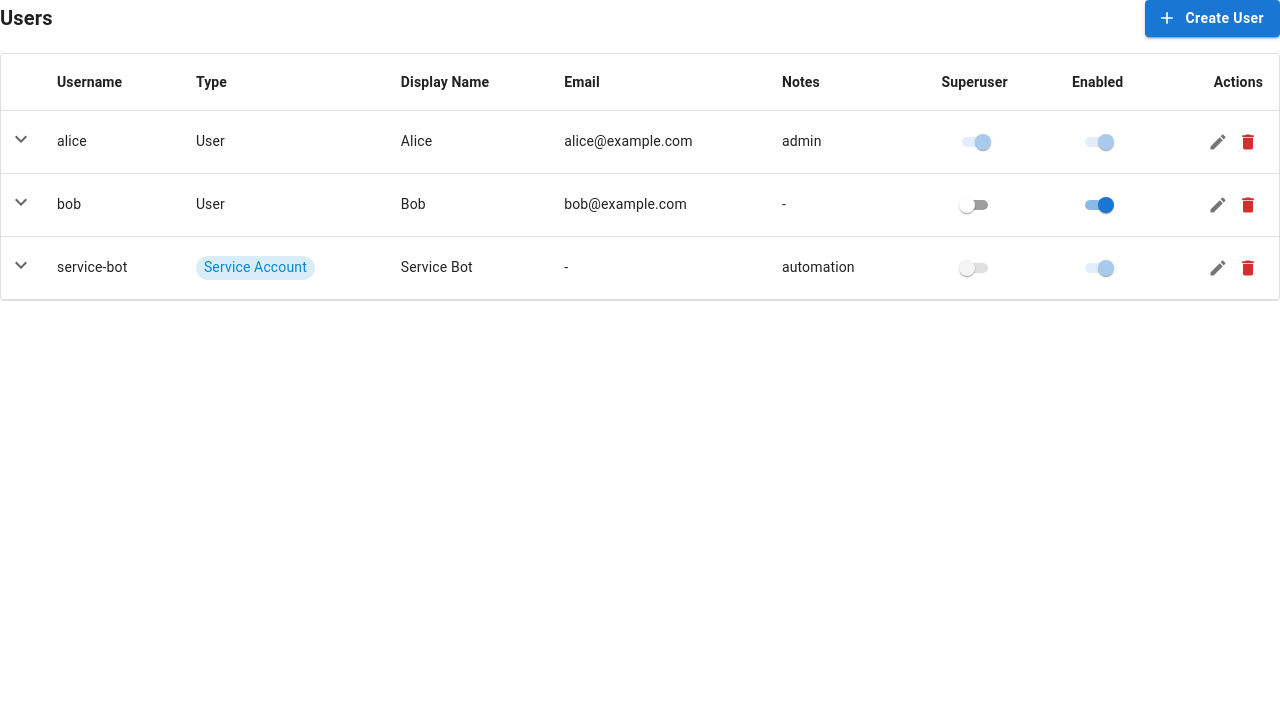
it: AdminUsers › Create user dialog › enables Create once the password reaches 12 characters
The image size is (1280, 720).
Expected: the text "alice" is shown, [41,110,180,173]
Click the button "Create User": (1213, 18) [1146,0,1279,36]
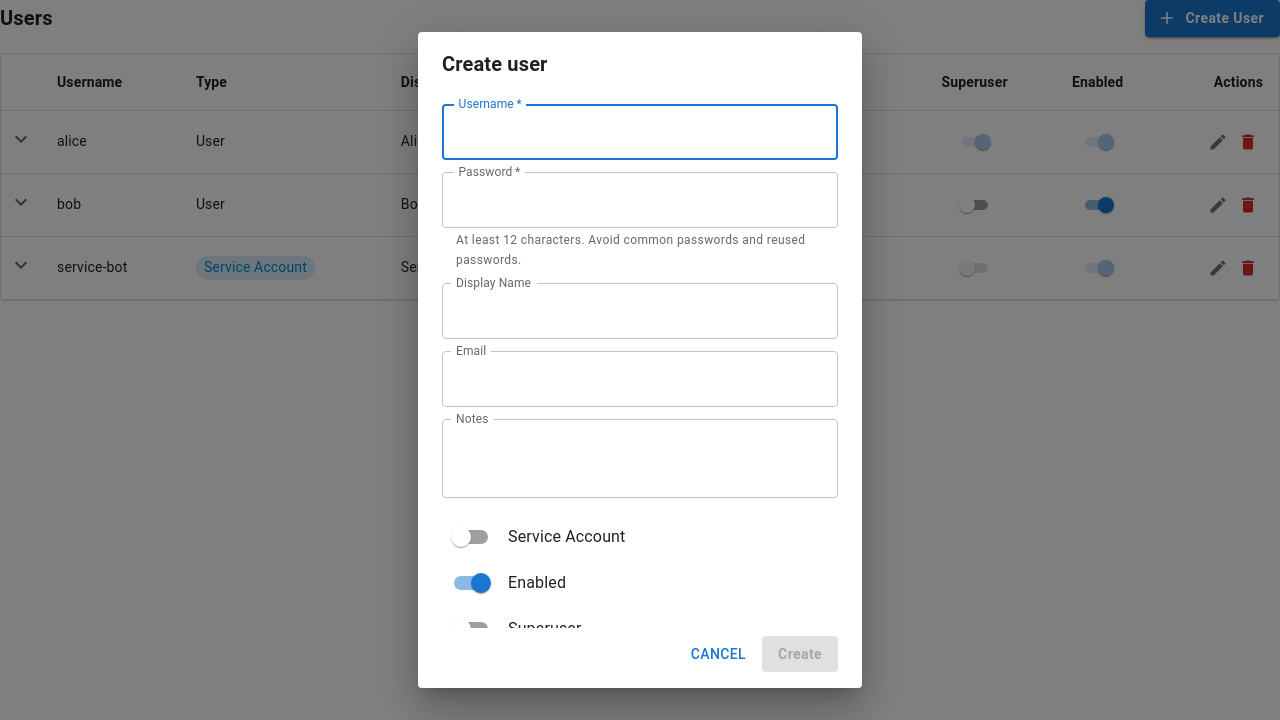
In the field labelled "Username *": (640, 132) [442,104,838,160], type "charlie"
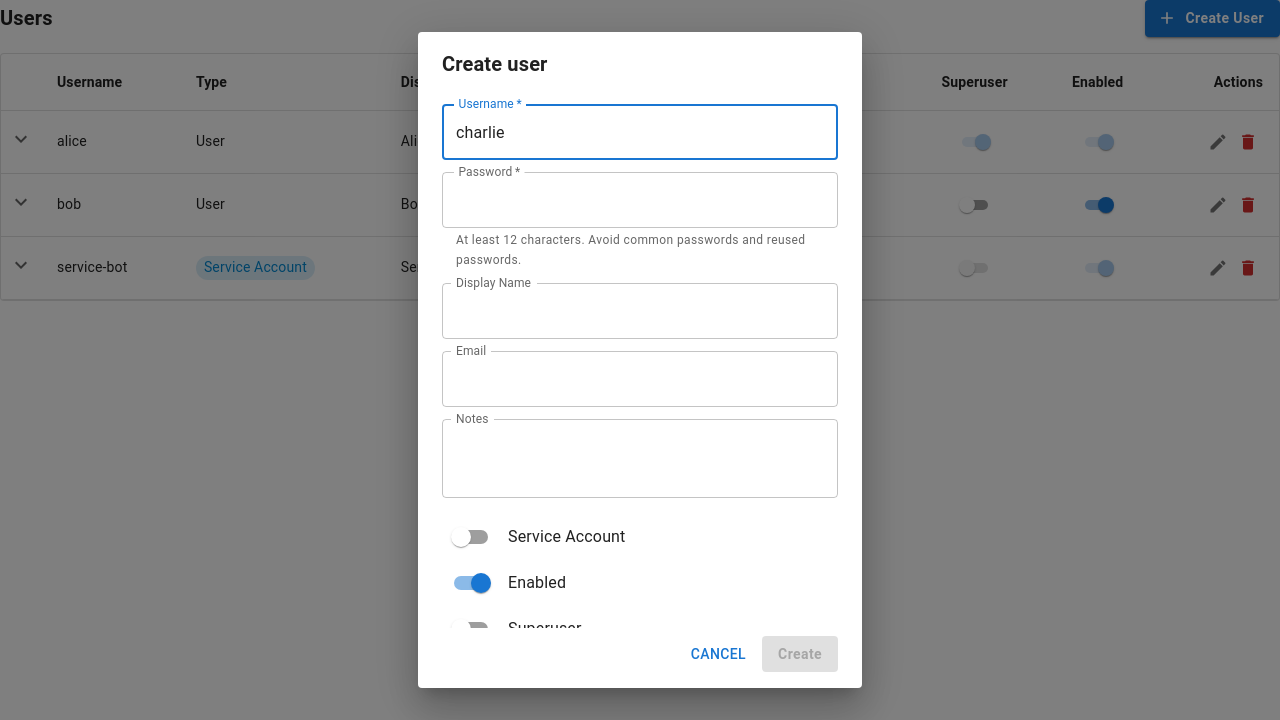
In the password field labelled "Password *": (640, 200) [442,172,838,228], type "Correct-Horse-99"
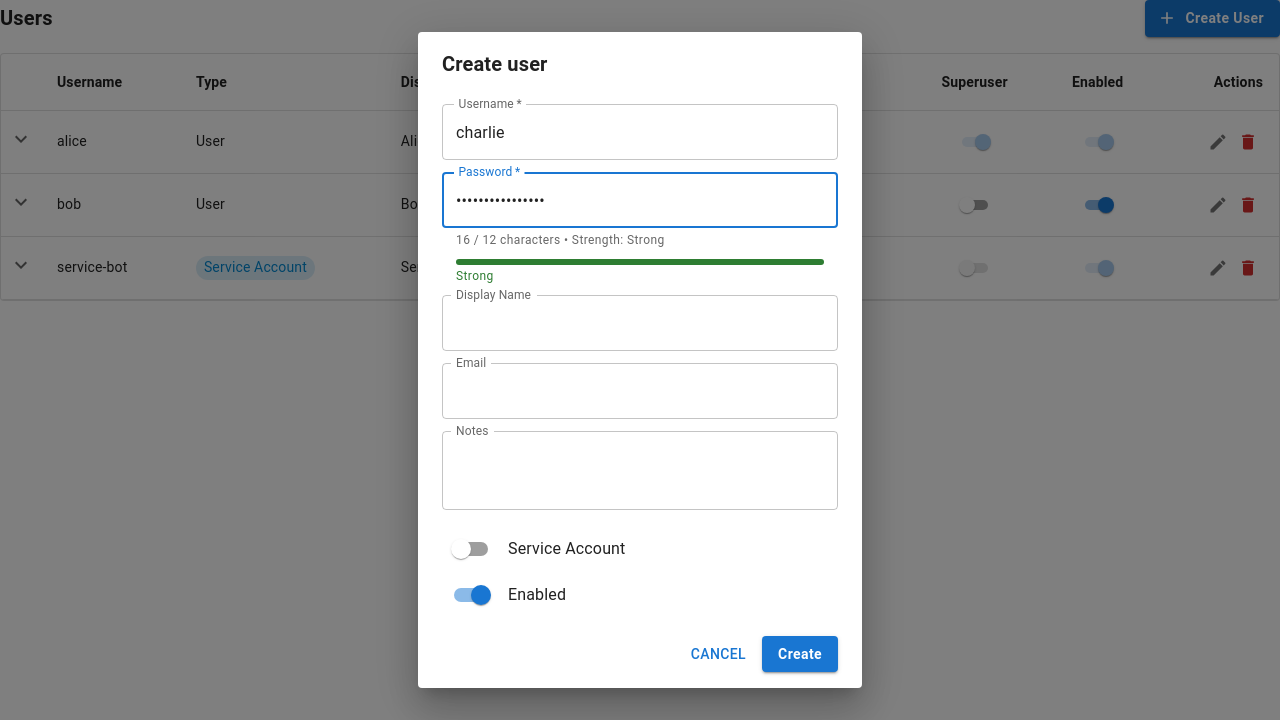
Result: the button "Create" is enabled at [762,636,838,672]
